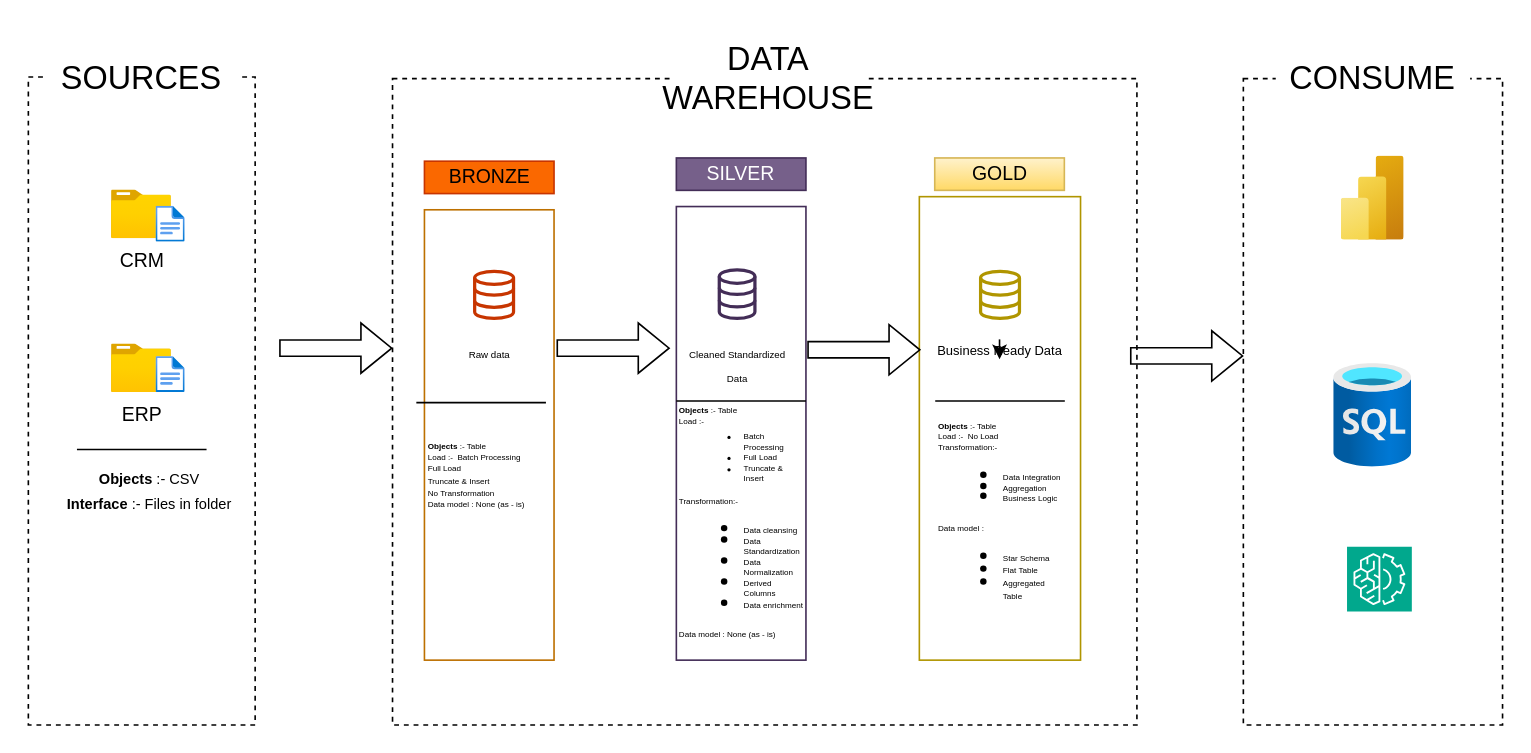
Image size: 1531x753. Some labels were removed from this diagram. Here are the shapes that lost their labels. From the top down, the box of each, then its label:
(1341, 156, 1404, 240): Power Bi and Reporting
(1333, 363, 1411, 467): Adhoc SQL
(1345, 545, 1412, 612): Machine Learning
